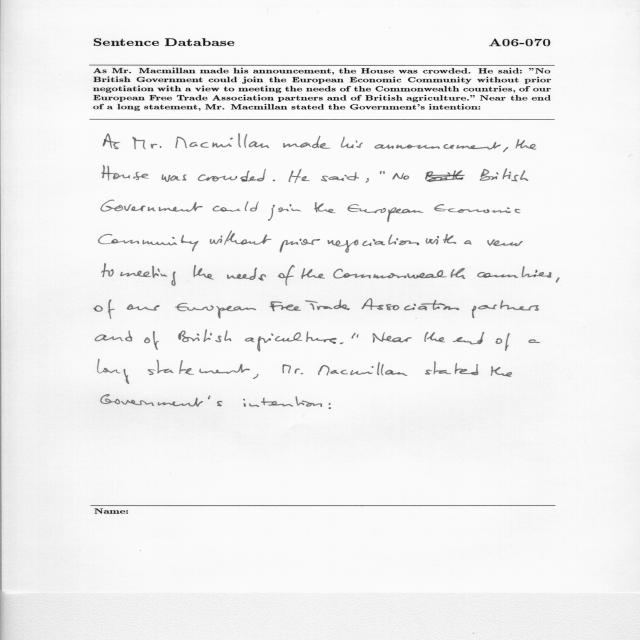word: (245, 332, 337, 352), (98, 234, 199, 251), (328, 235, 420, 253), (101, 394, 223, 407), (148, 360, 250, 375), (334, 268, 466, 279), (176, 134, 270, 149), (347, 204, 424, 222), (318, 362, 407, 376), (101, 200, 203, 212), (175, 303, 256, 318), (472, 300, 539, 318), (362, 299, 460, 311), (120, 266, 176, 286), (374, 142, 501, 150), (477, 266, 552, 278), (198, 169, 266, 182), (243, 396, 322, 407), (210, 231, 271, 245), (98, 359, 130, 384), (434, 204, 520, 213), (425, 362, 478, 376), (102, 166, 149, 181), (480, 168, 529, 182), (178, 330, 231, 342), (283, 136, 330, 149), (268, 204, 301, 221), (280, 239, 320, 253), (212, 201, 259, 212), (227, 268, 266, 281), (305, 300, 349, 311), (425, 170, 465, 182), (373, 332, 412, 343), (94, 299, 115, 319), (95, 331, 132, 342), (453, 332, 484, 344), (270, 301, 302, 312), (133, 137, 162, 149), (321, 172, 359, 181), (278, 265, 295, 285), (426, 234, 457, 244), (289, 169, 310, 183), (193, 265, 214, 279), (144, 331, 159, 350), (301, 268, 325, 279), (104, 134, 121, 149), (487, 239, 523, 246), (496, 333, 510, 351), (341, 137, 363, 148), (314, 202, 336, 213), (127, 304, 160, 311), (491, 366, 512, 377), (516, 139, 536, 150), (424, 332, 445, 342), (283, 364, 304, 374), (162, 174, 187, 182), (102, 264, 114, 277), (392, 173, 409, 180), (528, 339, 540, 343), (352, 333, 359, 339), (464, 240, 472, 245), (253, 374, 259, 379), (503, 147, 508, 152), (365, 178, 369, 183), (556, 278, 560, 283), (380, 171, 385, 174), (340, 343, 344, 345), (328, 403, 331, 405), (273, 180, 275, 181)
